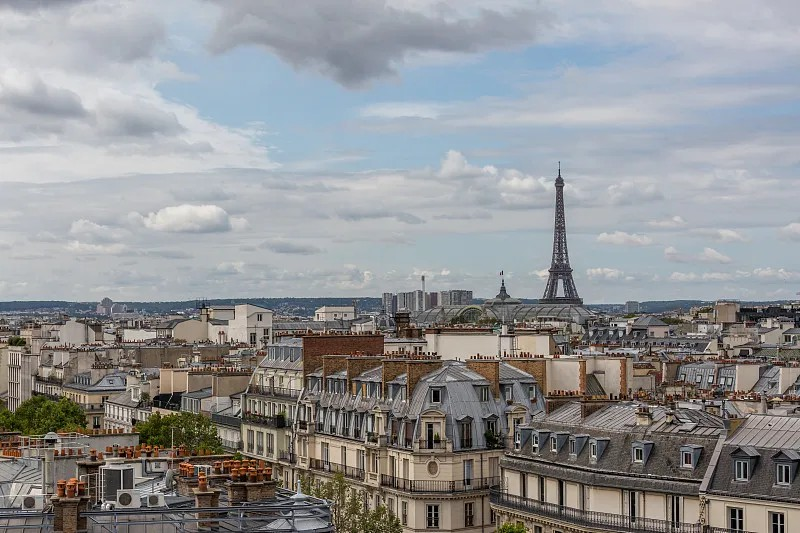Eiffel: (540, 161, 583, 306)
